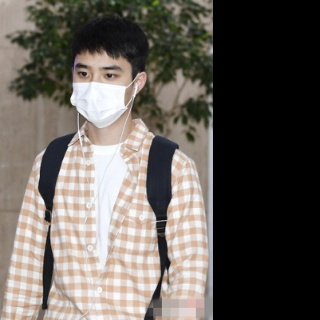with_mask: (73, 60, 134, 129)
